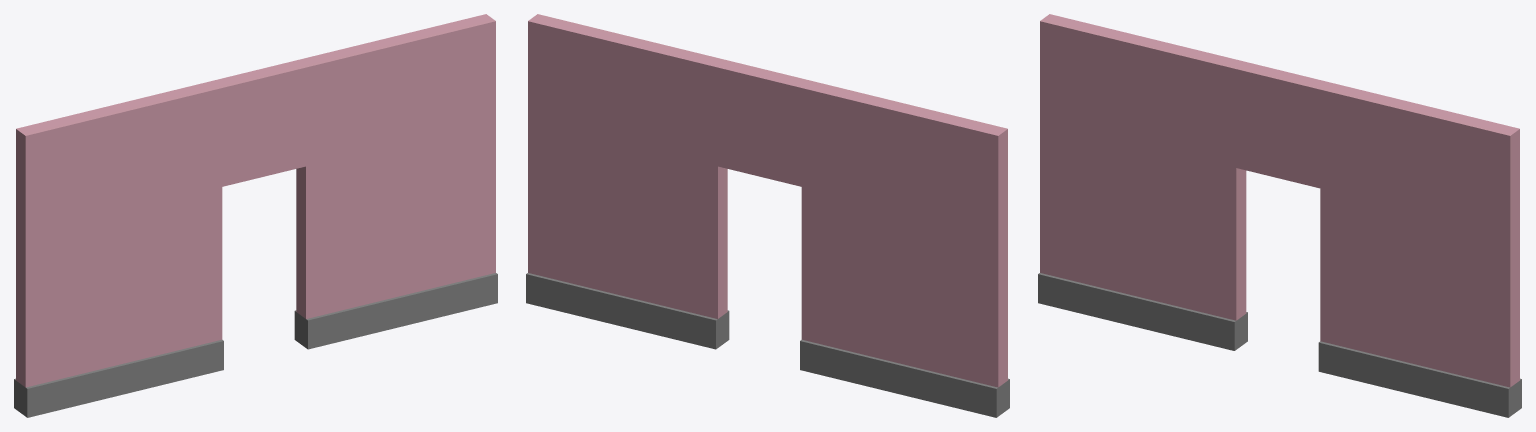
The model's file is Door Wall.FBX.
The picture shows the model from 3 angles, left to right: view 1: azimuth 30°, elevation 25°; view 2: azimuth 150°, elevation 25°; view 3: azimuth 330°, elevation 25°; orthographic projection.
Visible parts, largest first — view 1: Object010; view 2: Object010; view 3: Object010.
Part boxes in pixels (left/top/right/bottom): Object010: left=14, top=14, right=497, bottom=417; Object010: left=526, top=14, right=1009, bottom=417; Object010: left=1038, top=14, right=1521, bottom=417.
Size of the model in its own units: 473 by 270 by 23.44.
Materials: 1 (1 with a texture image).
